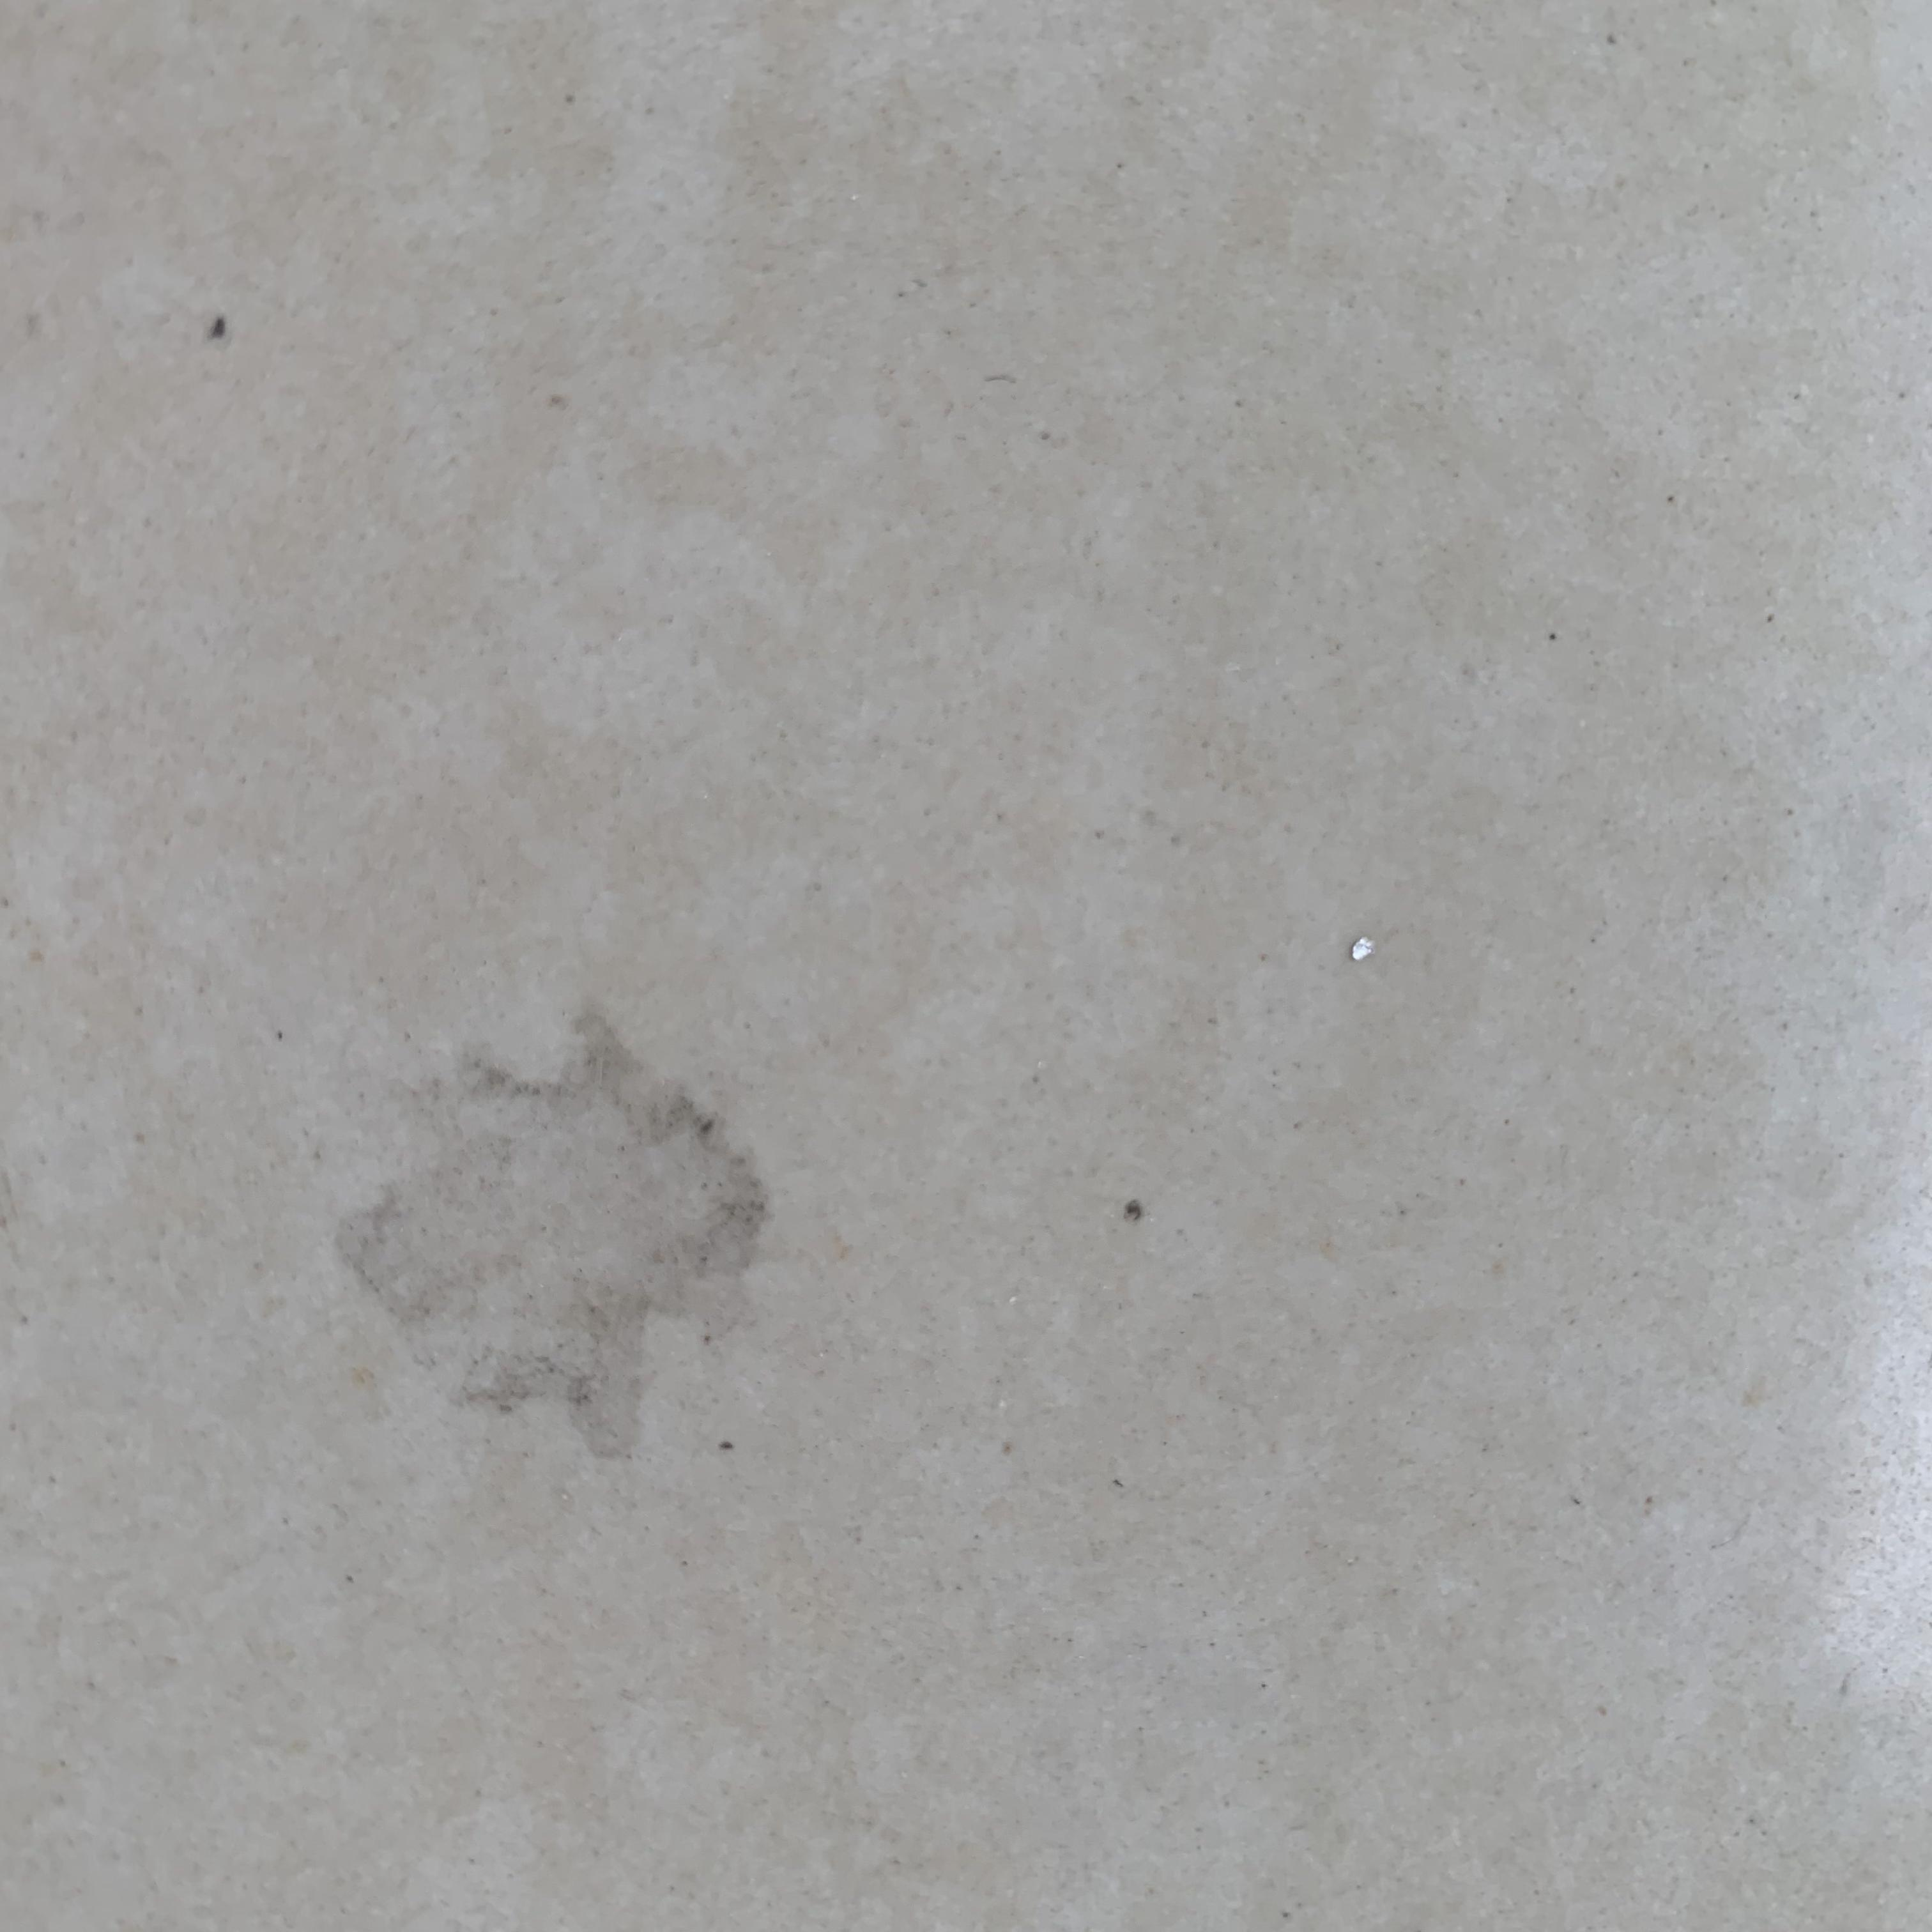grey spot: (331, 1007, 766, 1461), (1123, 1200, 1141, 1223), (211, 317, 225, 338)
